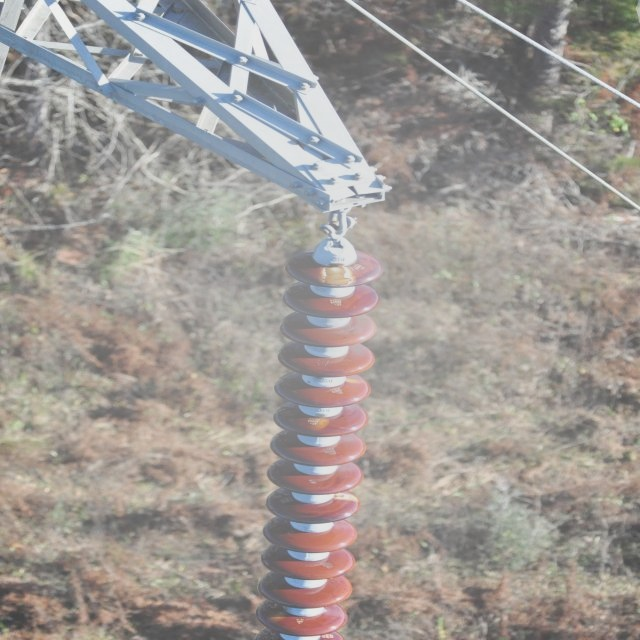insulator: (258, 251, 384, 638)
